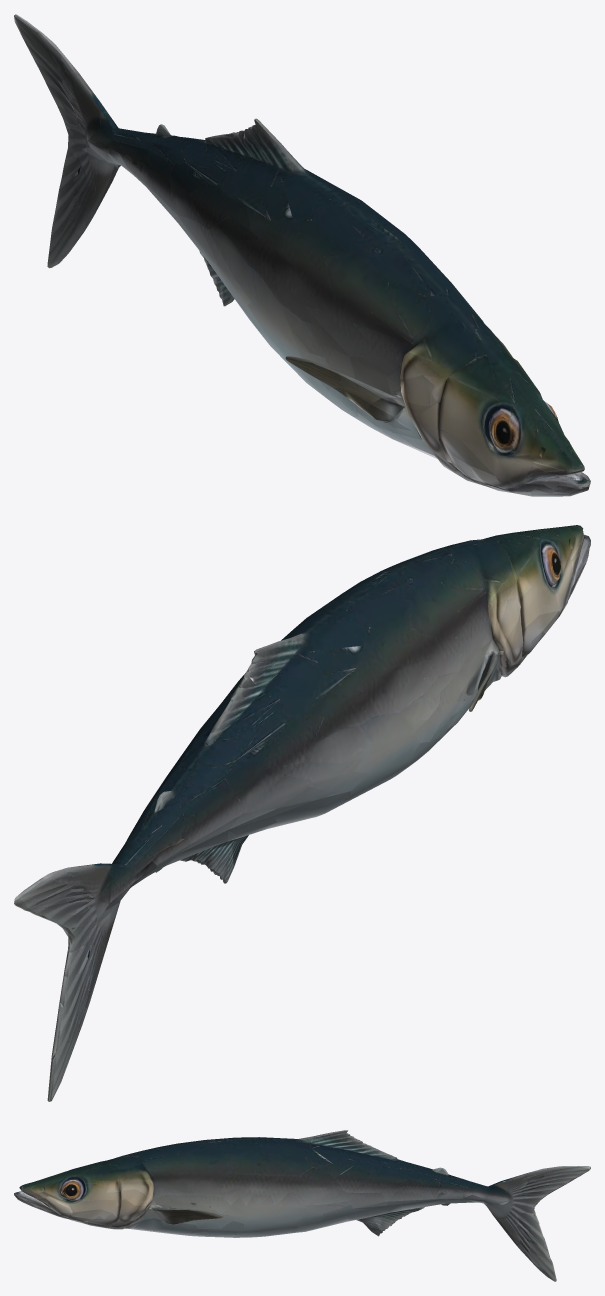
File: fish.glb
3 views of the same model, one above another, from view 1: azimuth 30°, elevation 25°; view 2: azimuth 150°, elevation 25°; view 3: azimuth 270°, elevation 25° (orthographic). The views are drawn at different scales.
Size of the model in its own units: 0.1874 by 0.2895 by 1.
Materials: 1 (1 with a texture image).
